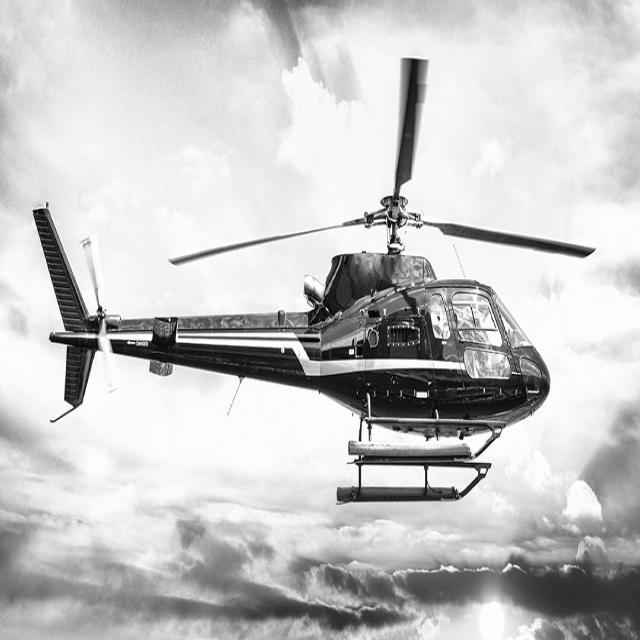helicopter: (25, 52, 604, 515)
